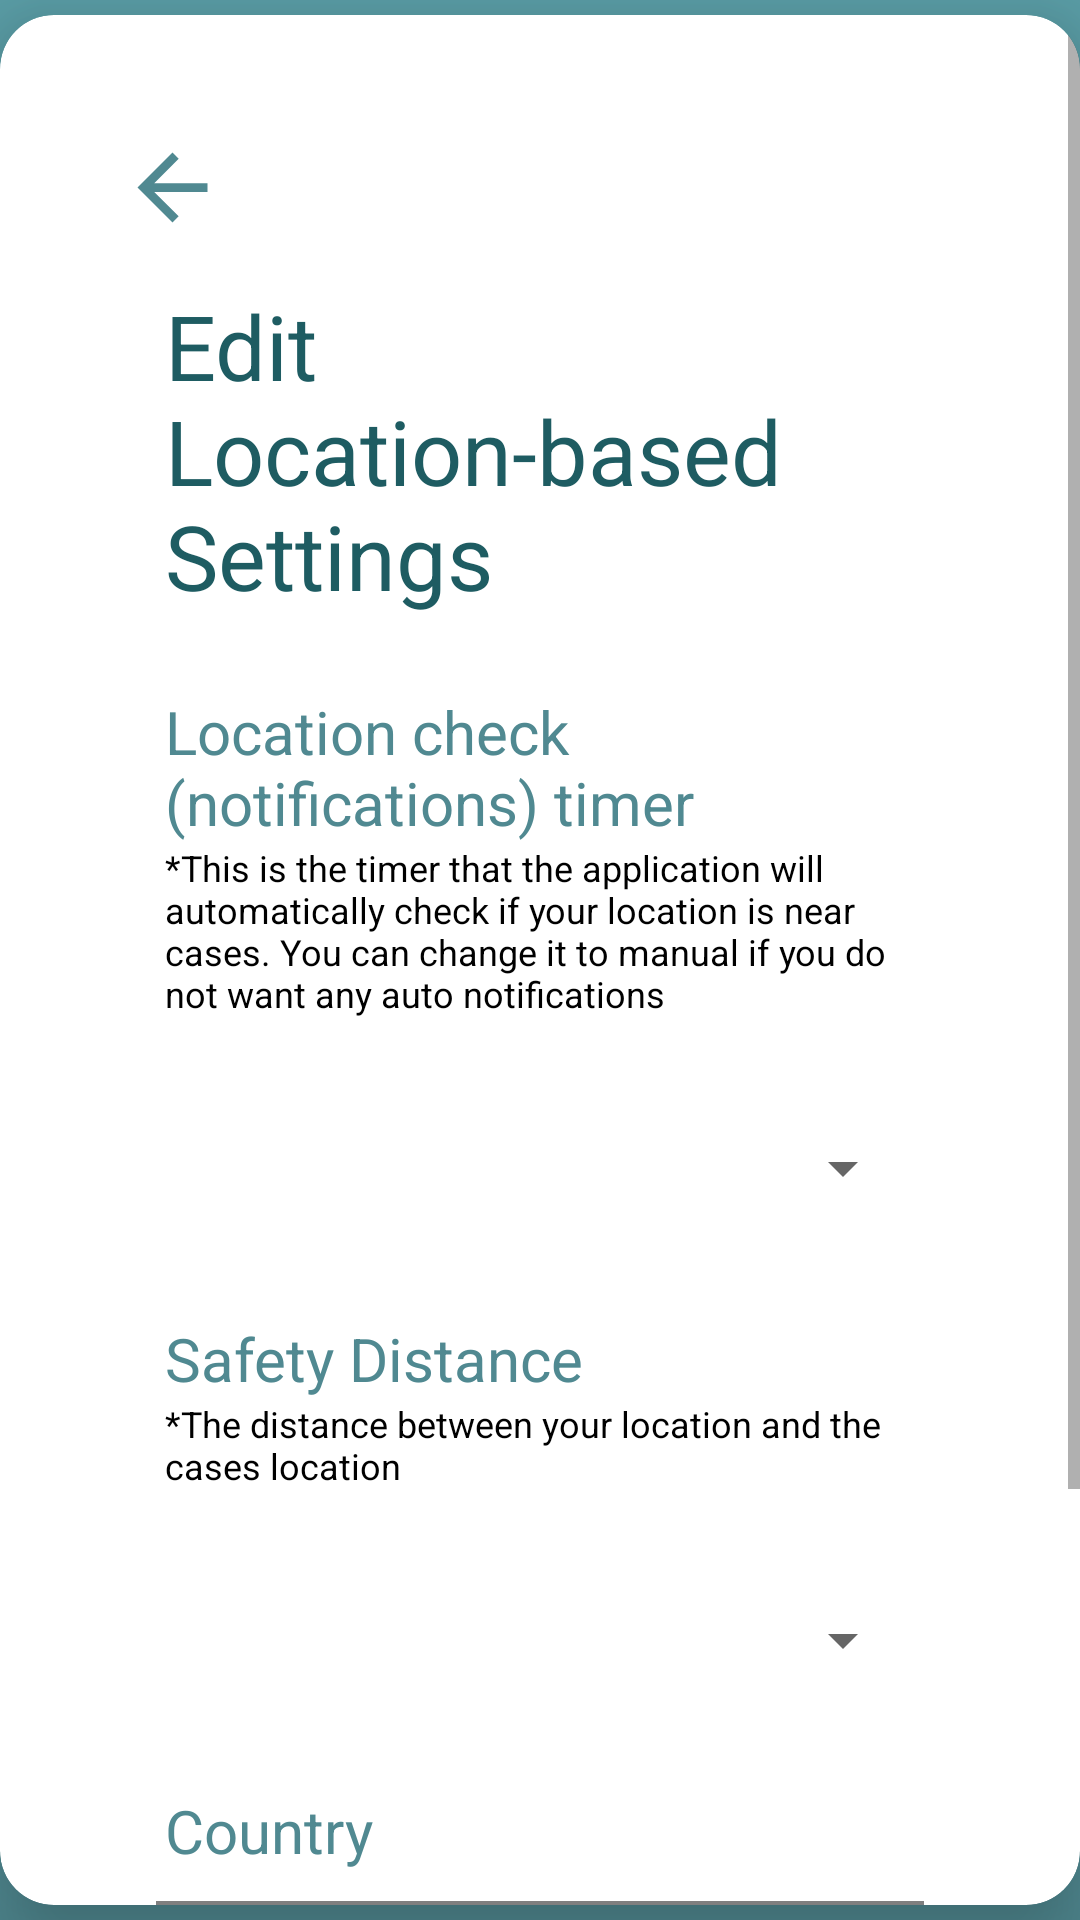

Icon bounding boxes for this 1080 x 1920 phone screenshot, format box=[x1, y1, x2, y2]:
back: box=[137, 152, 208, 223]
